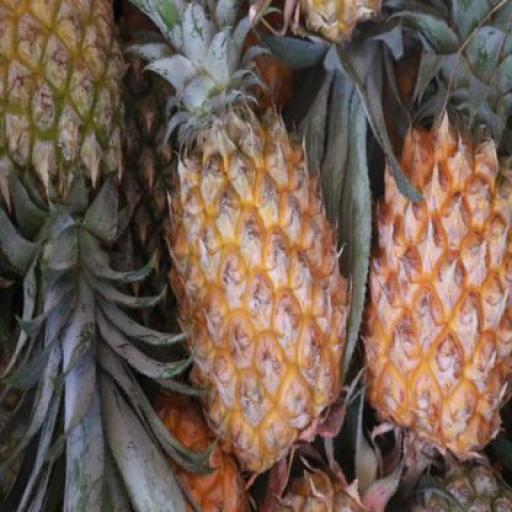------------------------------: (0, 0, 129, 213)
Pineapple - v8 v1: (158, 111, 352, 472), (358, 112, 512, 462)
